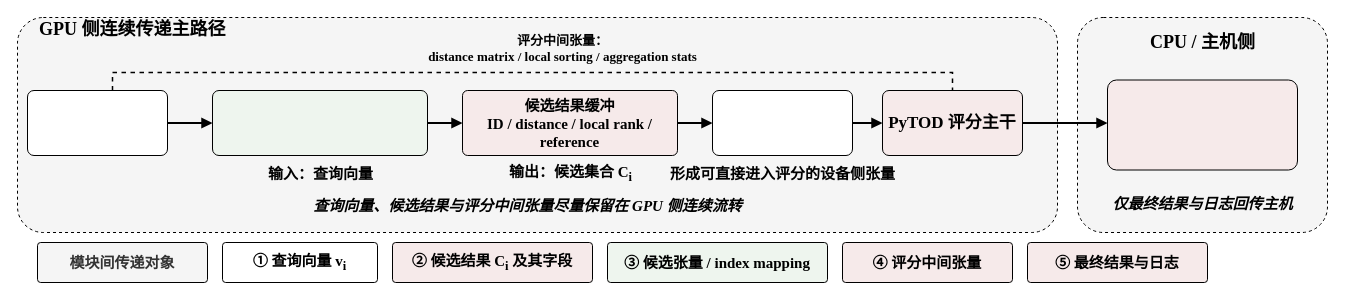
Image size: 1345x300. Some labels were removed from this diagram. Here are the shapes that lost their labels. From the top down, the box of each, then its label:
(26, 90, 168, 156): 统一查询向量 v i ∈ R d
(212, 90, 428, 156): 候选召回模块 FlashANNS / FAISS-GPU
(712, 90, 852, 156): 候选组织与重排
(1106, 79, 1298, 170): 最终小规模结果 score / rank / logs
